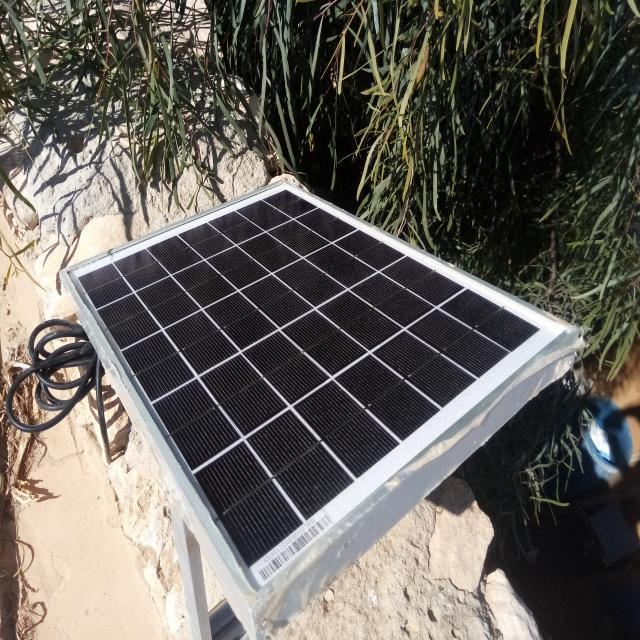Normal Solar Panel: (65, 185, 568, 605)
